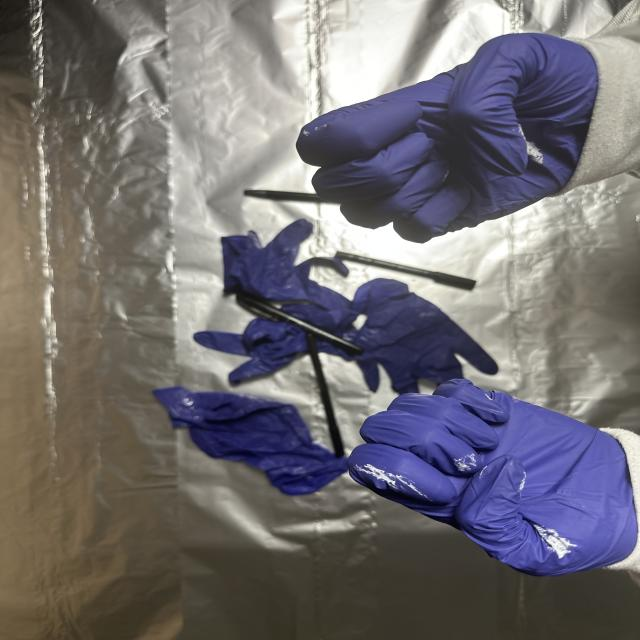gloves_contaminated: (297, 34, 598, 243), (348, 379, 640, 576)
